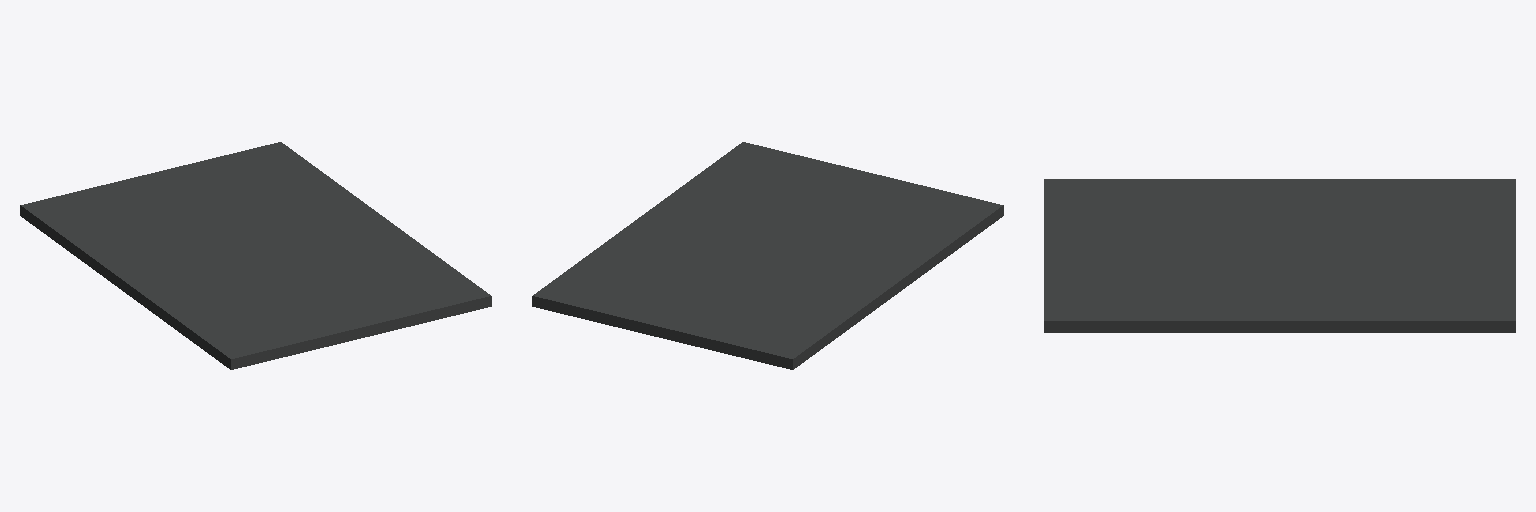
The robot description file, URDF, robot "plain_plane":
<?xml version="1.0" ?>
<robot name="plain_plane">
  <link name="plain_planeLink">
  <contact>
      <lateral_friction value="1"/>
  </contact>
    <inertial>
      <origin rpy="0 0 0" xyz="0 0 0"/>
       <mass value=".0"/>
       <inertia ixx="0" ixy="0" ixz="0" iyy="0" iyz="0" izz="0"/>
    </inertial>
    <visual>
      <origin rpy="0 0 0" xyz="0 0 -0.05"/>
      <geometry>
	 	<box size="2.5 3.5 0.1"/>
      </geometry>
       <material name="white">
        <color rgba="0.31 0.318 0.318 1"/>
      </material>
    </visual>
    <collision>
      <origin rpy="0 0 0" xyz="0 0 -0.05"/>
      <geometry>
	 	<box size="10 10 0.1"/>
      </geometry>
    </collision>
  </link>
</robot>

--- Facts derived from the render (not from the file) ---
3 views of the same robot in one strip: view 1: azimuth 30°, elevation 25°; view 2: azimuth 150°, elevation 25°; view 3: azimuth 270°, elevation 25° (orthographic).
Model plain_plane with 1 links and 0 joints (none), rooted at plain_planeLink, posed every joint at zero.
Visible links, largest first — view 1: plain_planeLink; view 2: plain_planeLink; view 3: plain_planeLink.
Boxes of the visible links, x1=… form: plain_planeLink: x1=20, y1=142, x2=491, y2=369; plain_planeLink: x1=532, y1=142, x2=1003, y2=369; plain_planeLink: x1=1044, y1=179, x2=1515, y2=332.
Bounding box of the posed robot: 2.5 × 3.5 × 0.1 m (x, y, z).
Geometry: primitives only (box / cylinder / sphere), no mesh files.